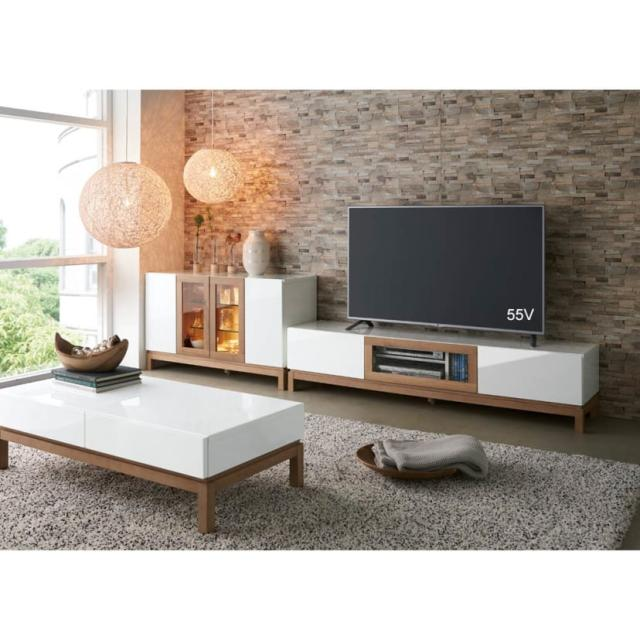modern desk: (8, 367, 308, 517)
modern shelf: (287, 320, 612, 434)
